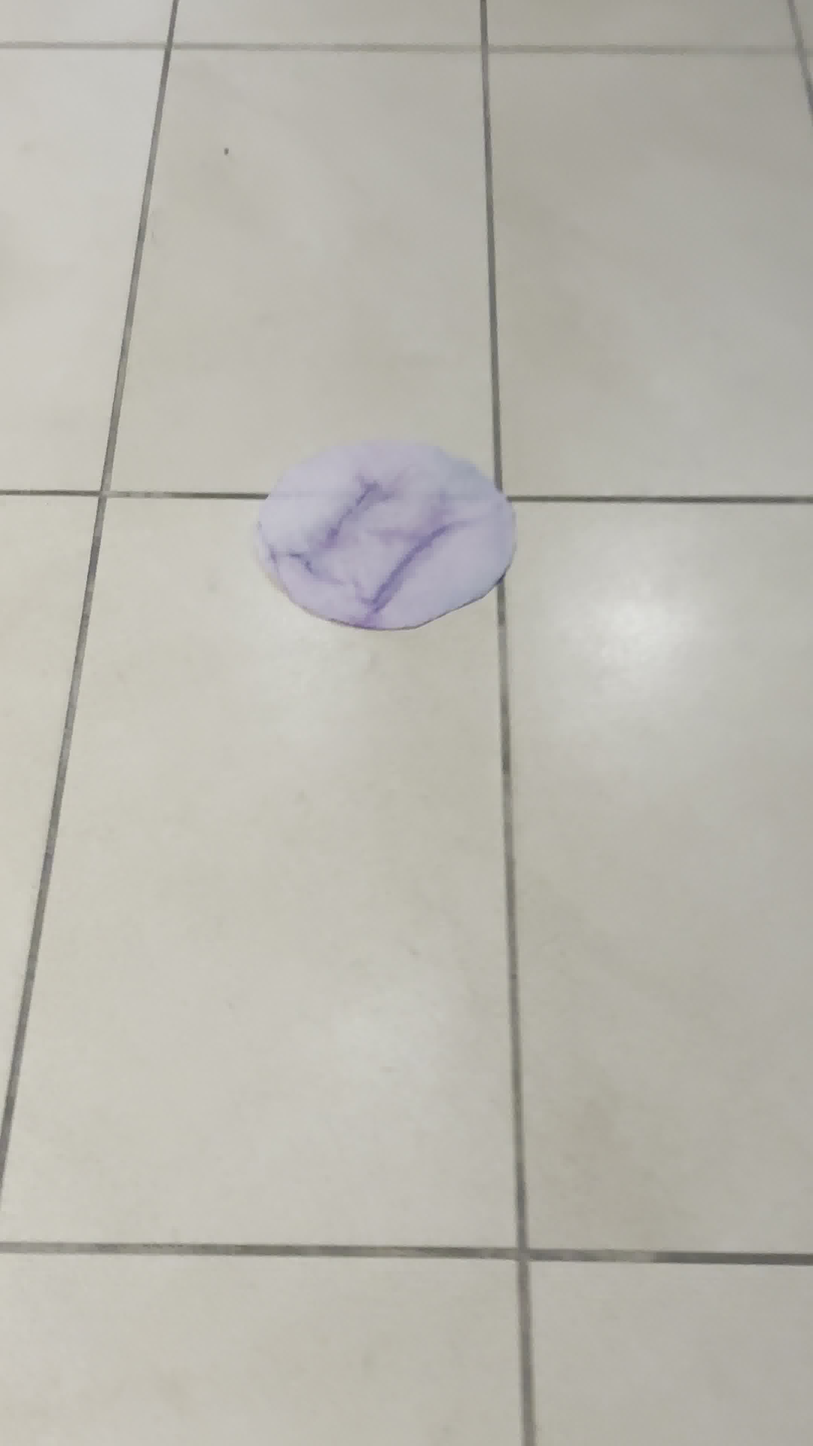Target: (244, 438, 518, 632)
